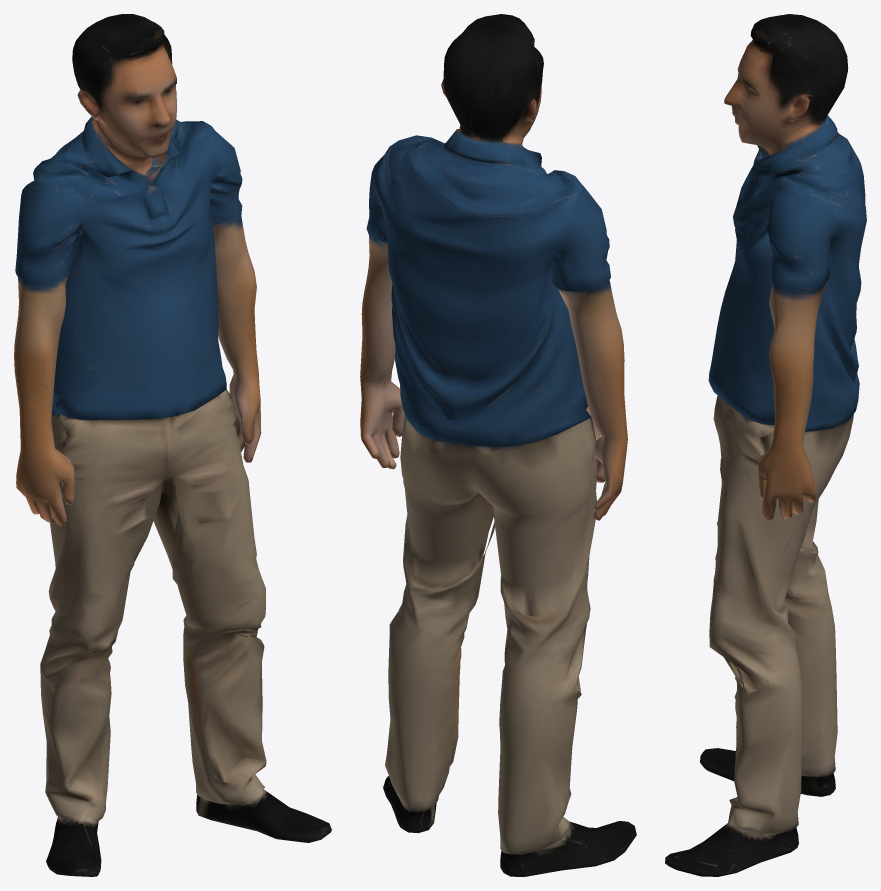
File: masyarakat_idle.glb
The picture shows the model from 3 angles, left to right: view 1: azimuth 30°, elevation 25°; view 2: azimuth 150°, elevation 25°; view 3: azimuth 270°, elevation 25°; orthographic projection. The views are drawn at different scales.
Visible parts, largest first — view 1: tripo_node_e60e25d6; view 2: tripo_node_e60e25d6; view 3: tripo_node_e60e25d6.
Part boxes in pixels (box(x1,y1,x2,y2)): tripo_node_e60e25d6: box(14, 14, 331, 876); tripo_node_e60e25d6: box(360, 14, 636, 876); tripo_node_e60e25d6: box(665, 14, 866, 876).
Bounding box in the file's own units: 33.98 × 99.97 × 23.14.
Materials: 1 (1 with a texture image).
